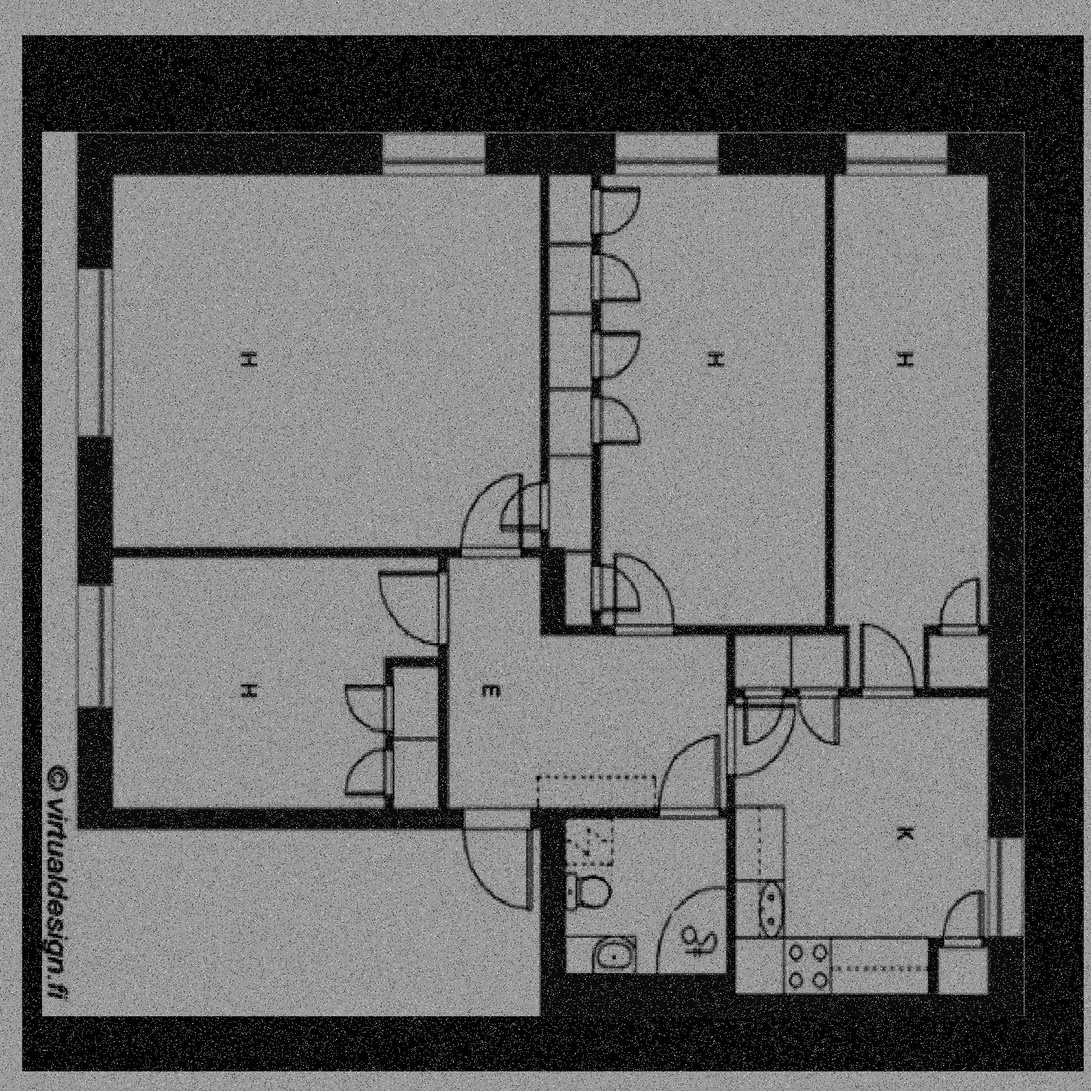wall: (77, 134, 1021, 173), (988, 134, 1021, 1017), (77, 134, 111, 828), (77, 808, 564, 829), (540, 973, 734, 1017), (734, 996, 1021, 1017), (541, 808, 564, 1017), (592, 134, 601, 633), (77, 548, 566, 557), (825, 134, 833, 634), (541, 134, 548, 633), (726, 624, 734, 1016), (440, 548, 448, 829), (842, 686, 1021, 695), (564, 808, 734, 817), (541, 625, 726, 633), (548, 548, 566, 625), (384, 656, 392, 828), (726, 687, 842, 696), (726, 625, 833, 634), (924, 625, 1021, 633), (384, 657, 448, 667), (928, 937, 936, 1017), (842, 625, 849, 696), (924, 625, 930, 696), (833, 625, 849, 634)
